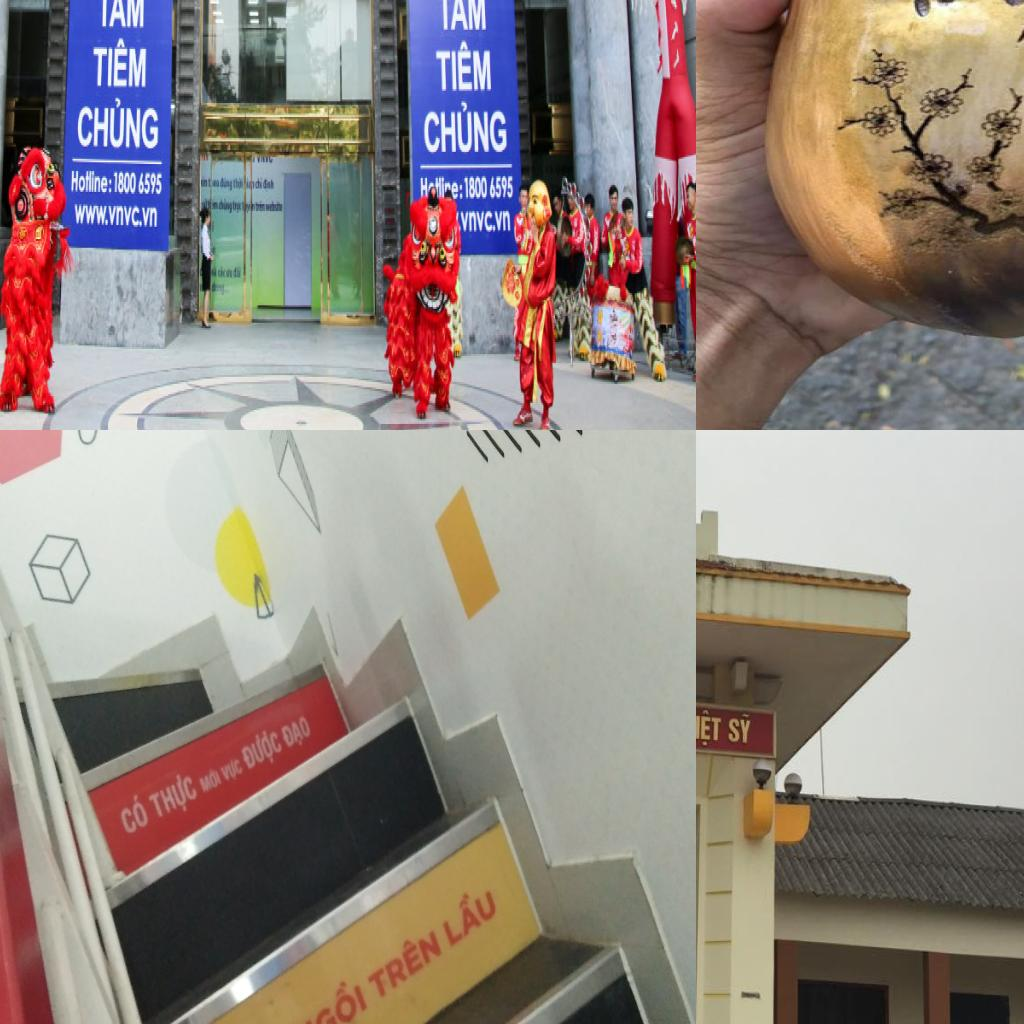text: (364, 919, 444, 1005), (75, 92, 161, 156), (423, 96, 509, 155), (286, 966, 370, 1024), (91, 33, 152, 96), (145, 767, 202, 827), (434, 38, 492, 96), (238, 723, 286, 777), (74, 202, 159, 232), (96, 0, 150, 36), (278, 711, 317, 757), (436, 0, 490, 33), (116, 790, 152, 838), (70, 166, 113, 197), (462, 208, 512, 234), (696, 706, 722, 748), (727, 711, 754, 745), (196, 764, 224, 796), (218, 754, 246, 786), (137, 168, 164, 197), (113, 168, 137, 197), (464, 174, 488, 202), (489, 172, 513, 200), (265, 199, 284, 215), (419, 173, 429, 202), (220, 174, 233, 194), (232, 174, 244, 194), (263, 176, 276, 194), (451, 180, 459, 202), (256, 199, 266, 215), (458, 180, 464, 204), (233, 199, 242, 215), (233, 265, 242, 281), (256, 174, 263, 192), (226, 267, 233, 281), (211, 218, 216, 236), (211, 243, 216, 258)
